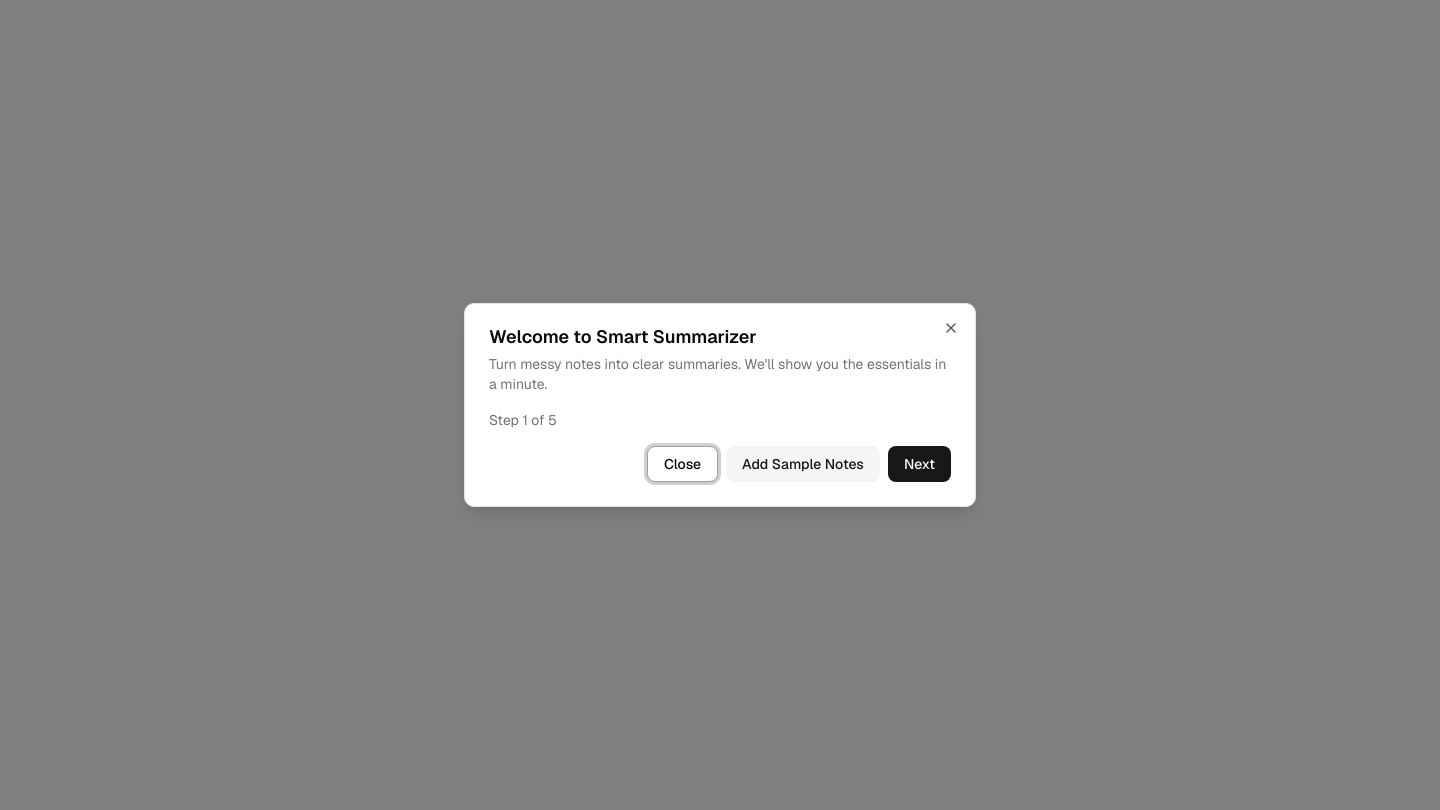
Scenario: OnboardingTour › renders and navigates steps
The width and height of the screenshot is (1440, 810).
Expected: the heading "Welcome to Smart Summarizer" is shown, [489, 325, 757, 348]
Click the button "Next" at (919, 464), box [888, 446, 951, 482]
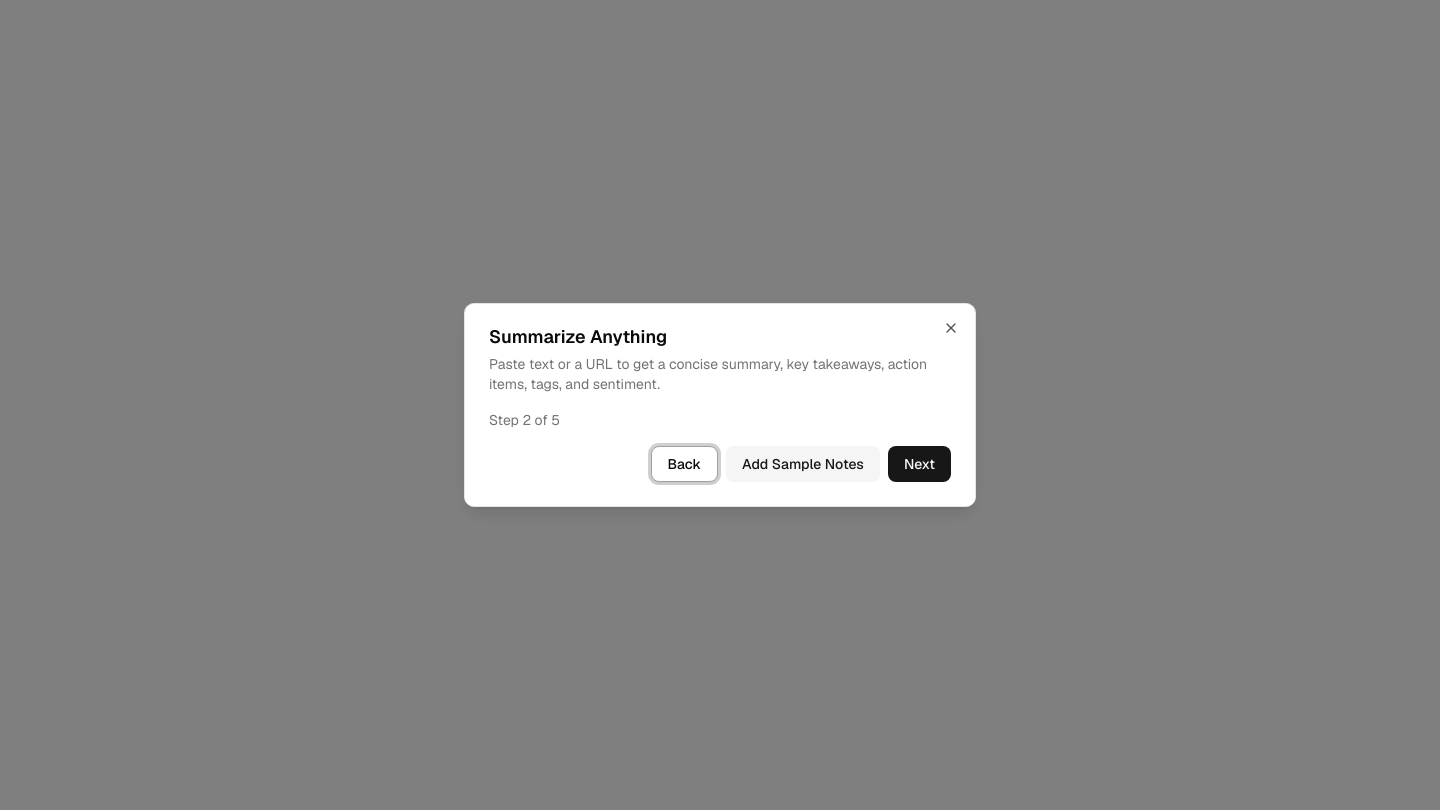
Expected: the heading "Summarize Anything" is shown, [489, 325, 667, 348]
Click the button "Back" at (684, 464), box [650, 446, 718, 482]
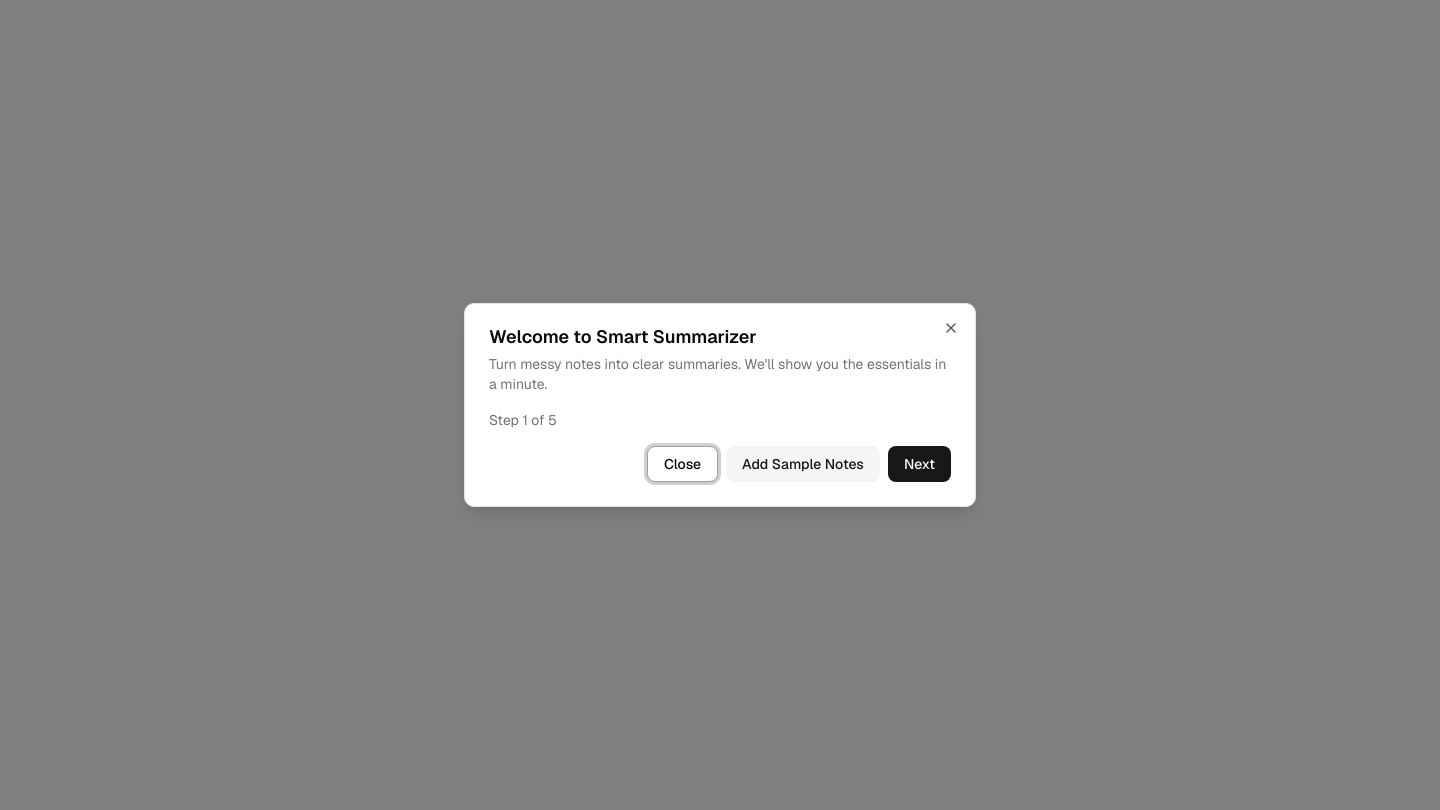
Expected: the heading "Welcome to Smart Summarizer" is shown, [489, 325, 757, 348]
